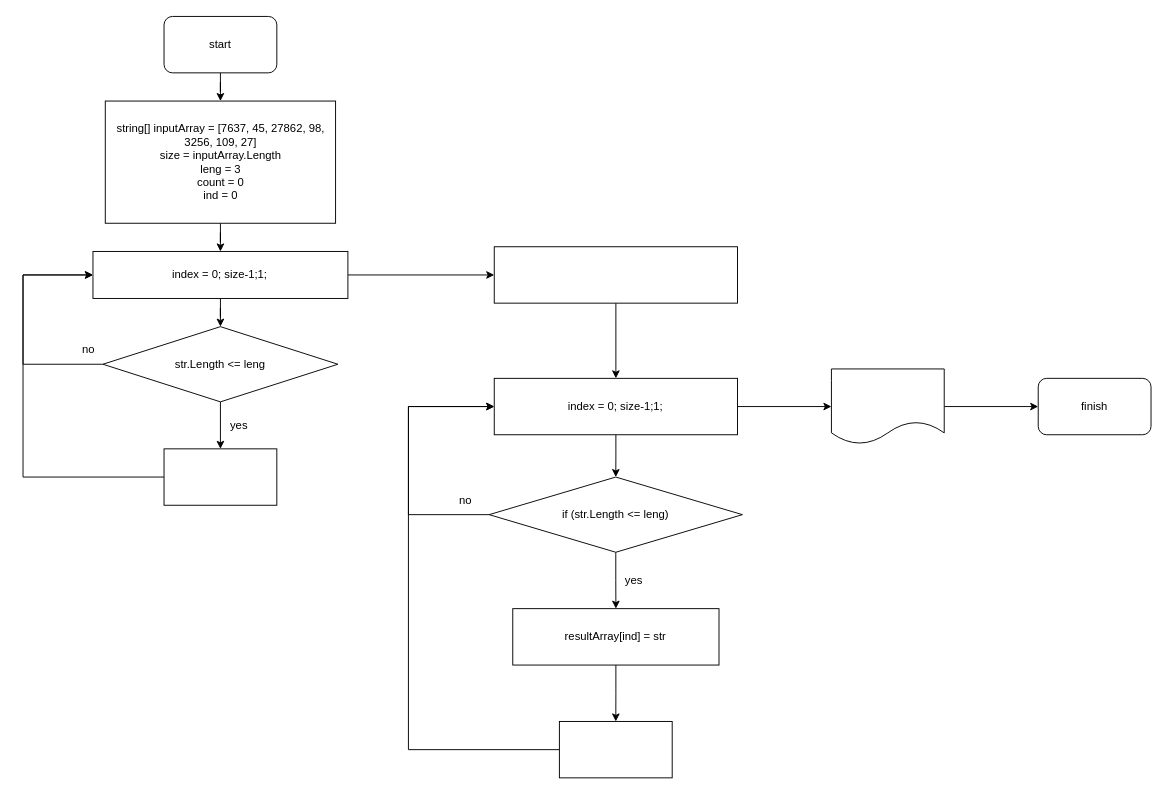
Image size: 1167x794. Some labels were removed from this diagram. The box of each missing label's shape, as (x1, y1, x2, y2) in pixels:
count = count + 1: (163, 448, 277, 505)
ind = ind+ 1: (558, 721, 672, 778)
resultArray: (830, 368, 944, 444)
string[] resultArray = new string[count]: (493, 246, 738, 303)
